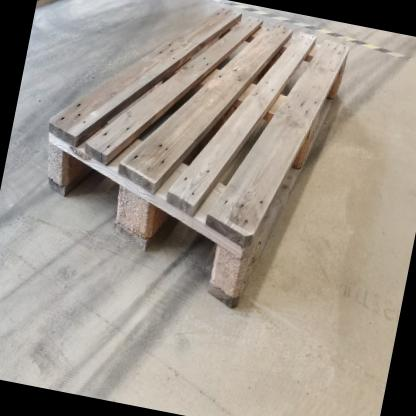BoxFace: (41, 5, 351, 313)
